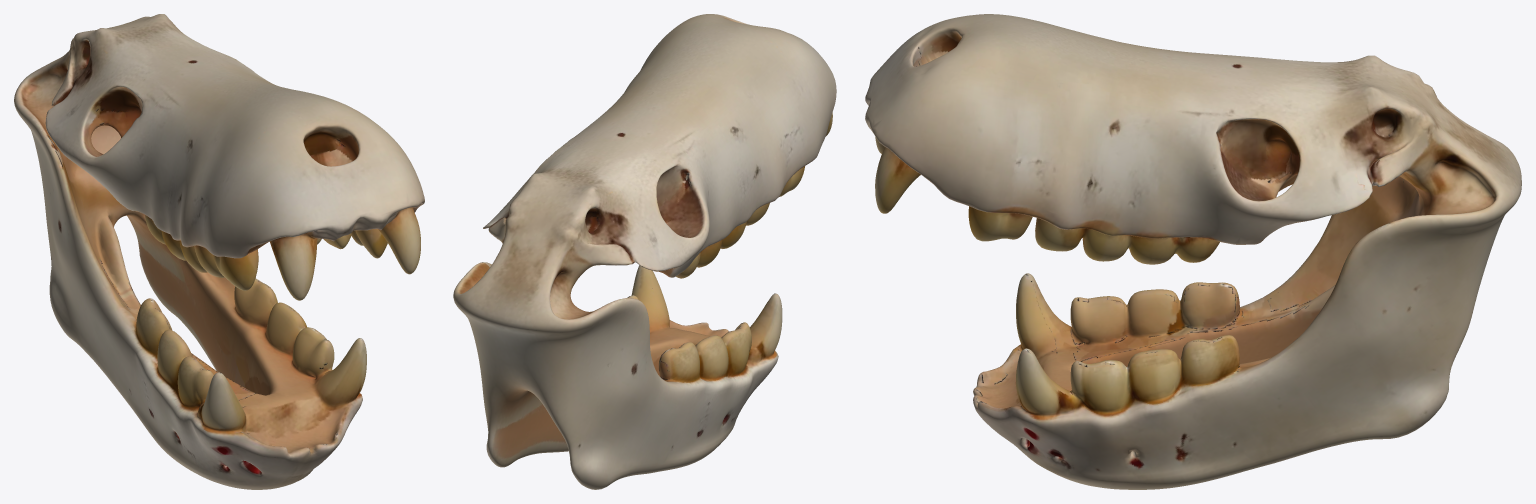
File: dog-mandible.glb
3 renders of one model, left to right at view 1: azimuth 30°, elevation 25°; view 2: azimuth 150°, elevation 25°; view 3: azimuth 270°, elevation 25°, orthographic. The views are drawn at different scales.
Visible parts, largest first — view 1: model; view 2: model; view 3: model.
Part boxes in pixels (bbox=[...]): model: bbox=[14, 14, 424, 489]; model: bbox=[453, 14, 836, 489]; model: bbox=[865, 14, 1521, 489].
Size of the model in its own units: 0.7242 by 1.42 by 1.9.
Materials: 1 (1 with a texture image).
